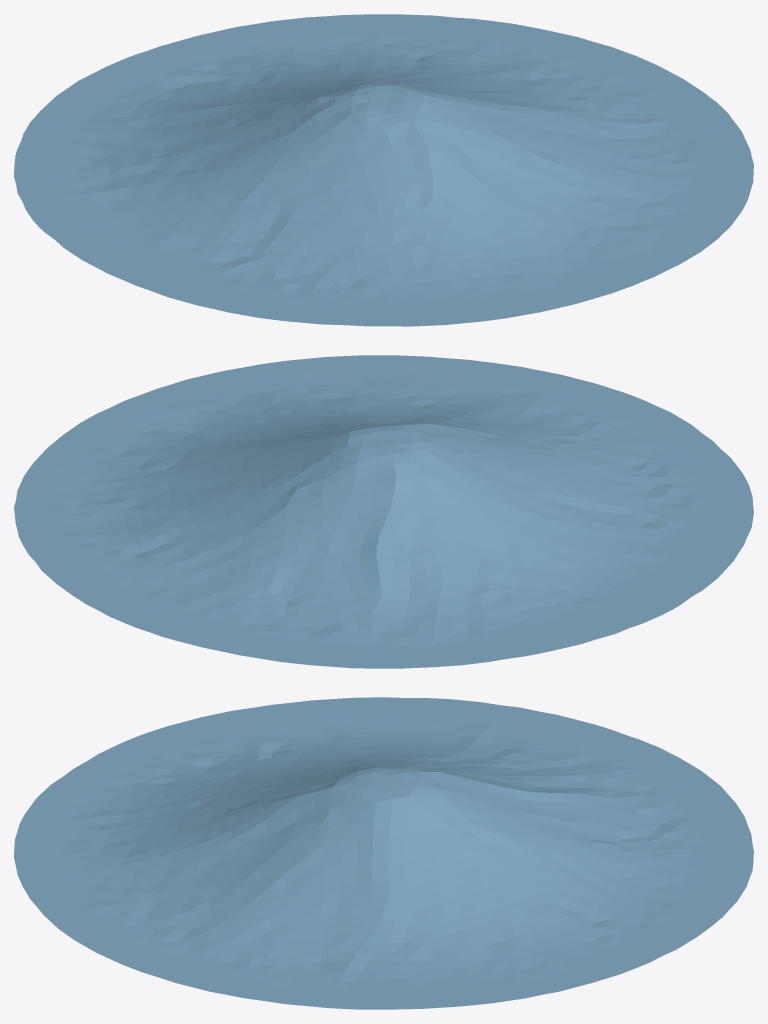
The model's file is level_1.glb.
3 views of the same model, one above another, from view 1: azimuth 30°, elevation 25°; view 2: azimuth 150°, elevation 25°; view 3: azimuth 270°, elevation 25° (orthographic).
Visible parts, largest first — view 1: world; view 2: world; view 3: world.
Boxes of the visible parts, x1=… form: world: x1=14, y1=14, x2=753, y2=326; world: x1=14, y1=355, x2=753, y2=668; world: x1=14, y1=697, x2=753, y2=1009.
Size of the model in its own units: 0.64 by 0.0685 by 0.6405.
